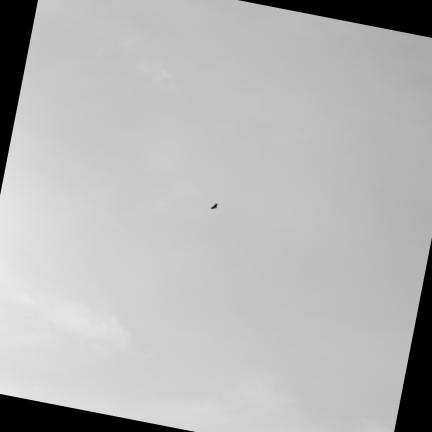Shahed: (211, 204, 218, 209)
